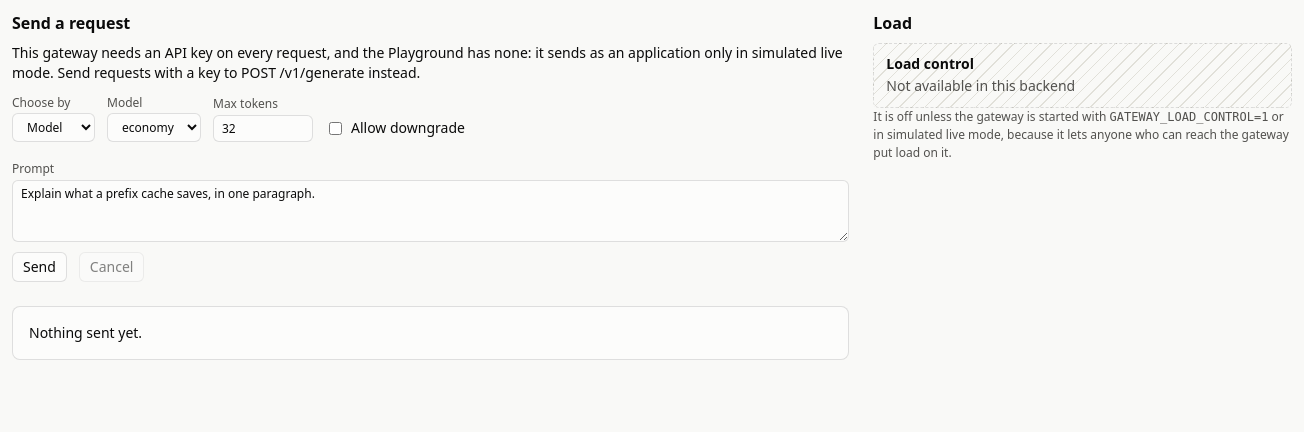
Test: response › shows why a request was refused
Click the button "Send". click: click(39, 267)
box: [12,252,67,282]
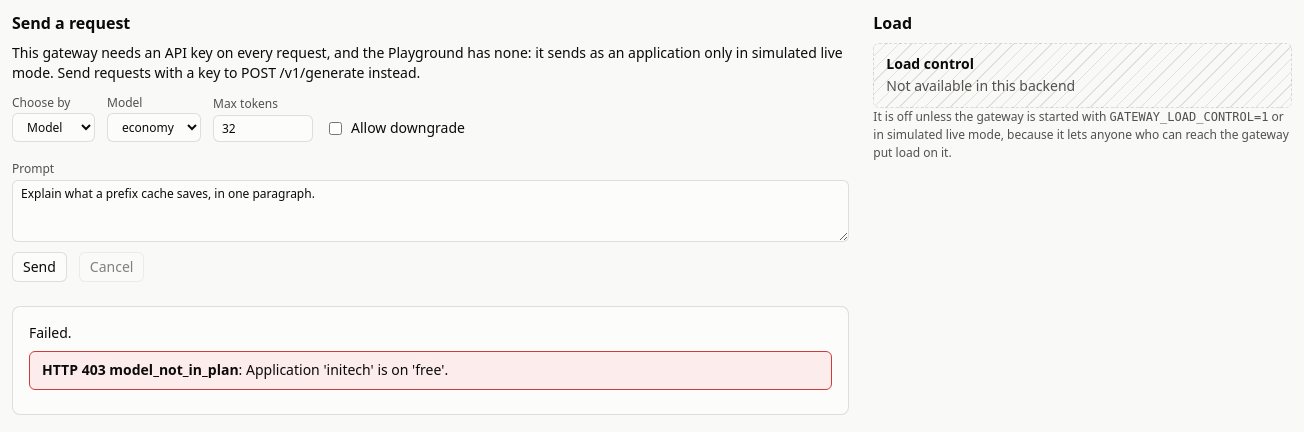
Check: the message "HTTP 403 model_not_in_plan: Application 'initech' is on 'free'." is shown, box [29,351,832,390]
Check: the text "Failed." is shown, box [29,323,72,342]
